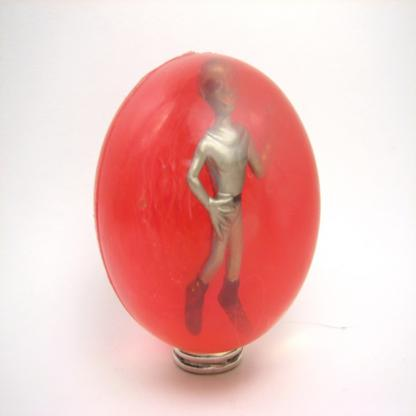Ball: (93, 50, 321, 352)
